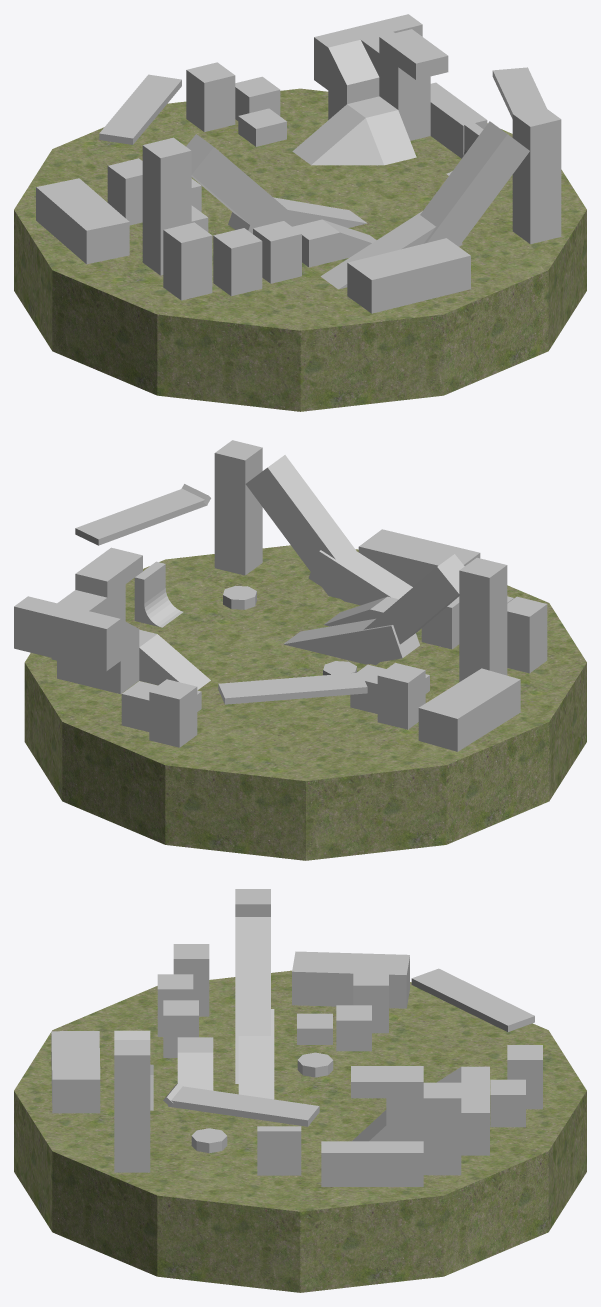
The model's file is Map8old.obj.
The picture shows the model from 3 angles, top to bottom: view 1: azimuth 30°, elevation 25°; view 2: azimuth 150°, elevation 25°; view 3: azimuth 270°, elevation 25°; orthographic projection.
Size of the model in its own units: 40 by 16.88 by 40.
